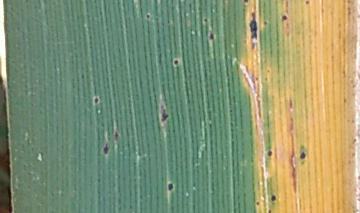tarspot: (157, 96, 171, 130), (249, 12, 258, 44), (102, 135, 110, 160), (112, 124, 121, 144), (297, 149, 309, 161), (166, 179, 176, 192), (92, 92, 101, 106), (208, 28, 216, 43), (171, 58, 181, 67), (144, 11, 152, 20), (268, 194, 277, 202), (266, 149, 274, 157), (262, 19, 269, 27), (280, 14, 288, 21), (302, 1, 313, 6), (267, 208, 275, 213), (166, 18, 172, 24), (80, 74, 85, 81), (202, 17, 208, 22), (238, 1, 251, 3), (255, 201, 260, 206)
